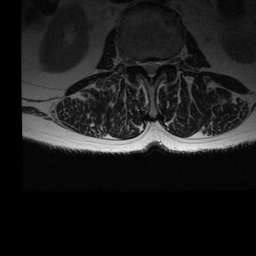CCS_normal: (147, 52, 154, 88)
LFS_stenosis: (163, 50, 171, 72)
LLS_stenosis: (154, 51, 163, 76)
RFS_stenosis: (131, 49, 138, 73)
RLS_stenosis: (138, 52, 147, 76)
